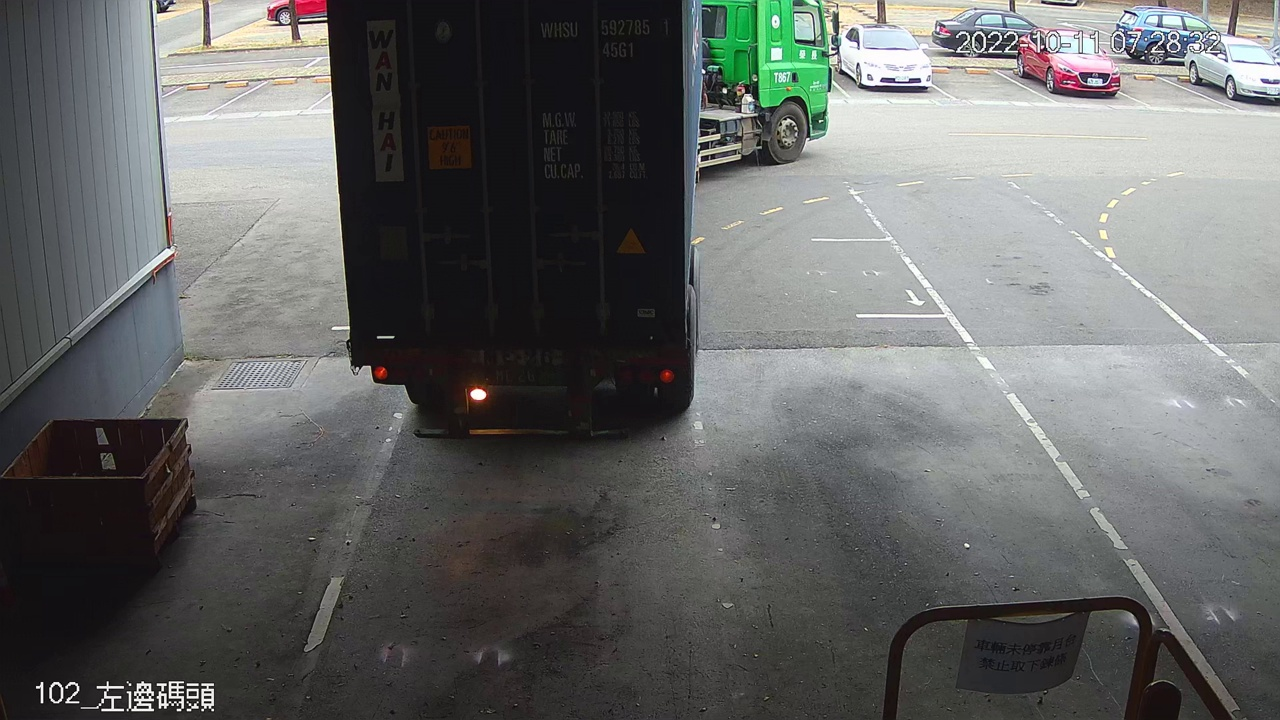container: (532, 12, 677, 64)
